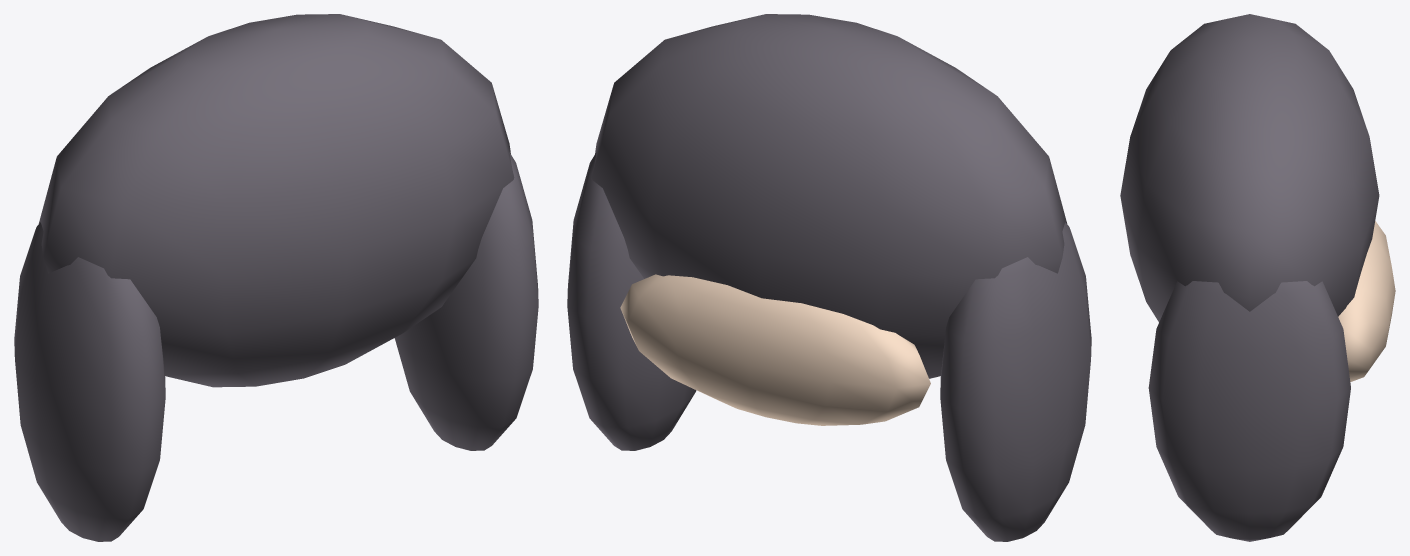
File: hair-chibi-02.glb
3 renders of one model, left to right at view 1: azimuth 30°, elevation 25°; view 2: azimuth 150°, elevation 25°; view 3: azimuth 270°, elevation 25°, orthographic. The views are drawn at different scales.
Parts seen in each view (by area): view 1: part_0, part_1, part_2; view 2: part_0, part_1, part_3, part_2; view 3: part_0, part_2, part_3.
Boxes of the visible parts, left/top/right/bottom form: part_0: left=38, top=14, right=514, bottom=387; part_1: left=14, top=222, right=165, bottom=541; part_2: left=394, top=152, right=538, bottom=450; part_0: left=591, top=14, right=1067, bottom=378; part_1: left=940, top=222, right=1091, bottom=541; part_3: left=620, top=274, right=930, bottom=425; part_2: left=567, top=152, right=696, bottom=450; part_0: left=1120, top=14, right=1379, bottom=322; part_2: left=1148, top=281, right=1350, bottom=541; part_3: left=1338, top=221, right=1395, bottom=381.
Bounding box in the file's own units: 1.24 × 1.14 × 0.68.
